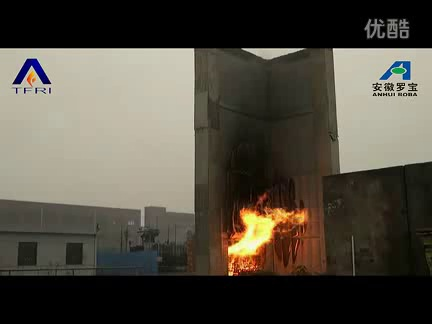fire: (222, 193, 308, 271)
